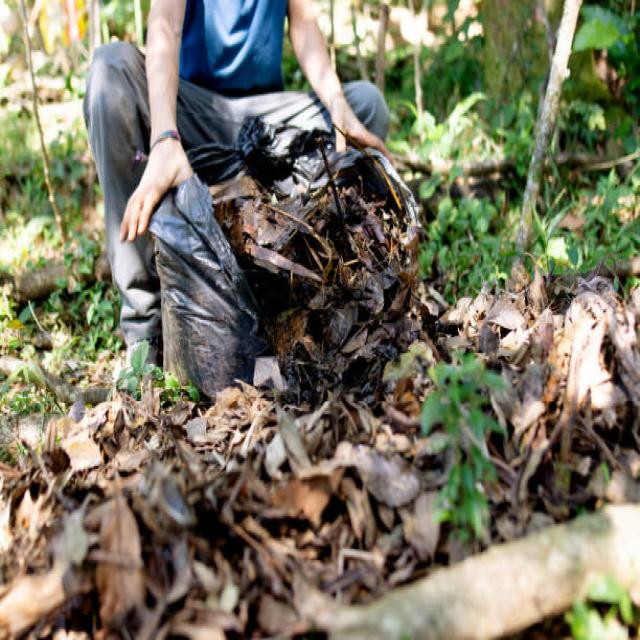trash: (52, 190, 587, 623)
